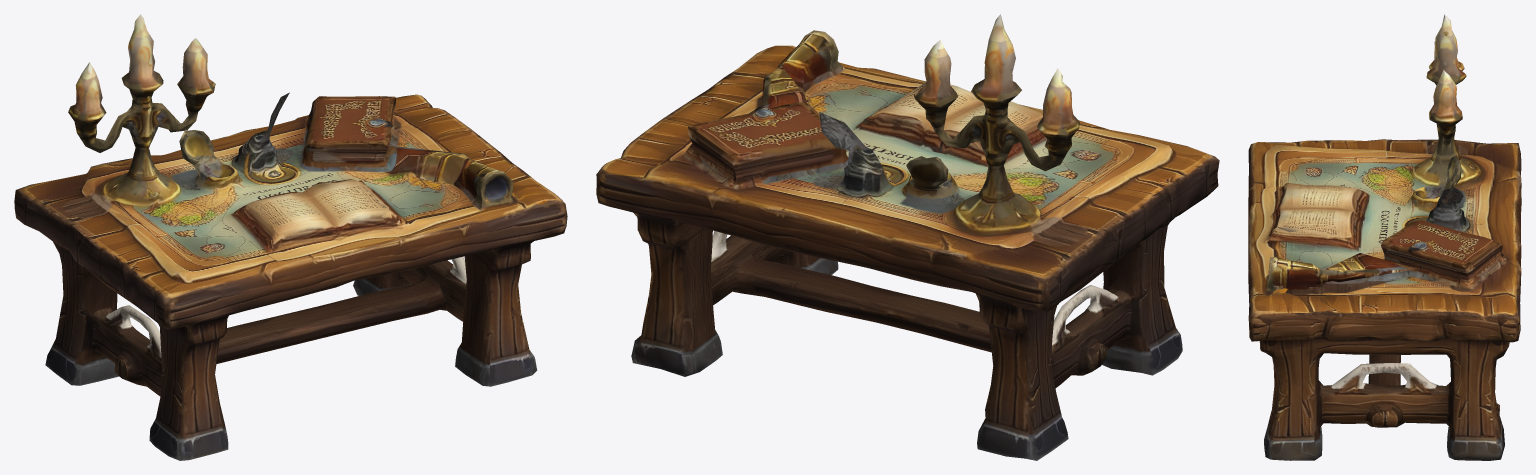
Rendered from war_table.glb.
3 views of the same model, side by side, from view 1: azimuth 30°, elevation 25°; view 2: azimuth 150°, elevation 25°; view 3: azimuth 270°, elevation 25° (orthographic). The views are drawn at different scales.
Visible parts, largest first — view 1: Table with Nautical Items; view 2: Table with Nautical Items; view 3: Table with Nautical Items.
Boxes of the visible parts, box(x1,y1,x2,y2) form: Table with Nautical Items: box(14, 14, 567, 460); Table with Nautical Items: box(596, 14, 1219, 460); Table with Nautical Items: box(1248, 14, 1521, 460).
Size of the model in its own units: 1.17 by 1 by 0.7753.
1 material, 1 textured.
